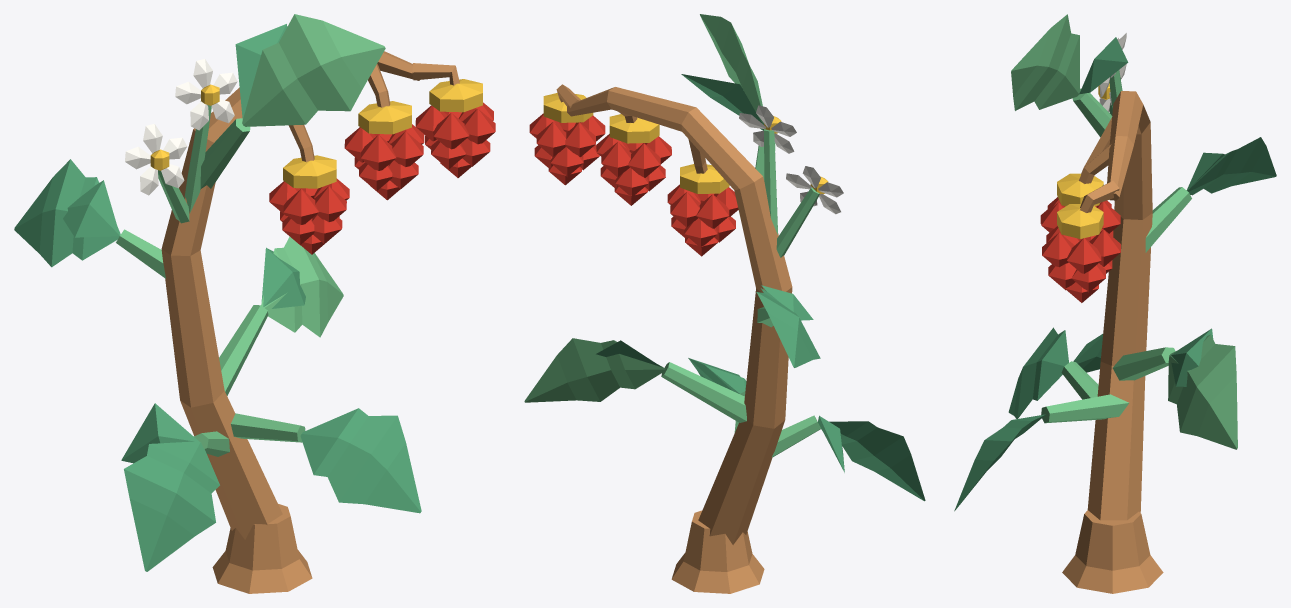
The model's file is 11-raspberry.glb.
3 views of the same model, side by side, from view 1: azimuth 30°, elevation 25°; view 2: azimuth 150°, elevation 25°; view 3: azimuth 270°, elevation 25° (orthographic). The views are drawn at different scales.
Visible parts, largest first — view 1: 11-raspberry_Body; view 2: 11-raspberry_Body; view 3: 11-raspberry_Body.
Boxes of the visible parts, bbox=[...] form: 11-raspberry_Body: bbox=[14, 14, 495, 593]; 11-raspberry_Body: bbox=[524, 14, 925, 593]; 11-raspberry_Body: bbox=[954, 14, 1276, 593].
Bounding box in the file's own units: 0.455 × 0.644 × 0.3345.
1 material, 1 textured.
